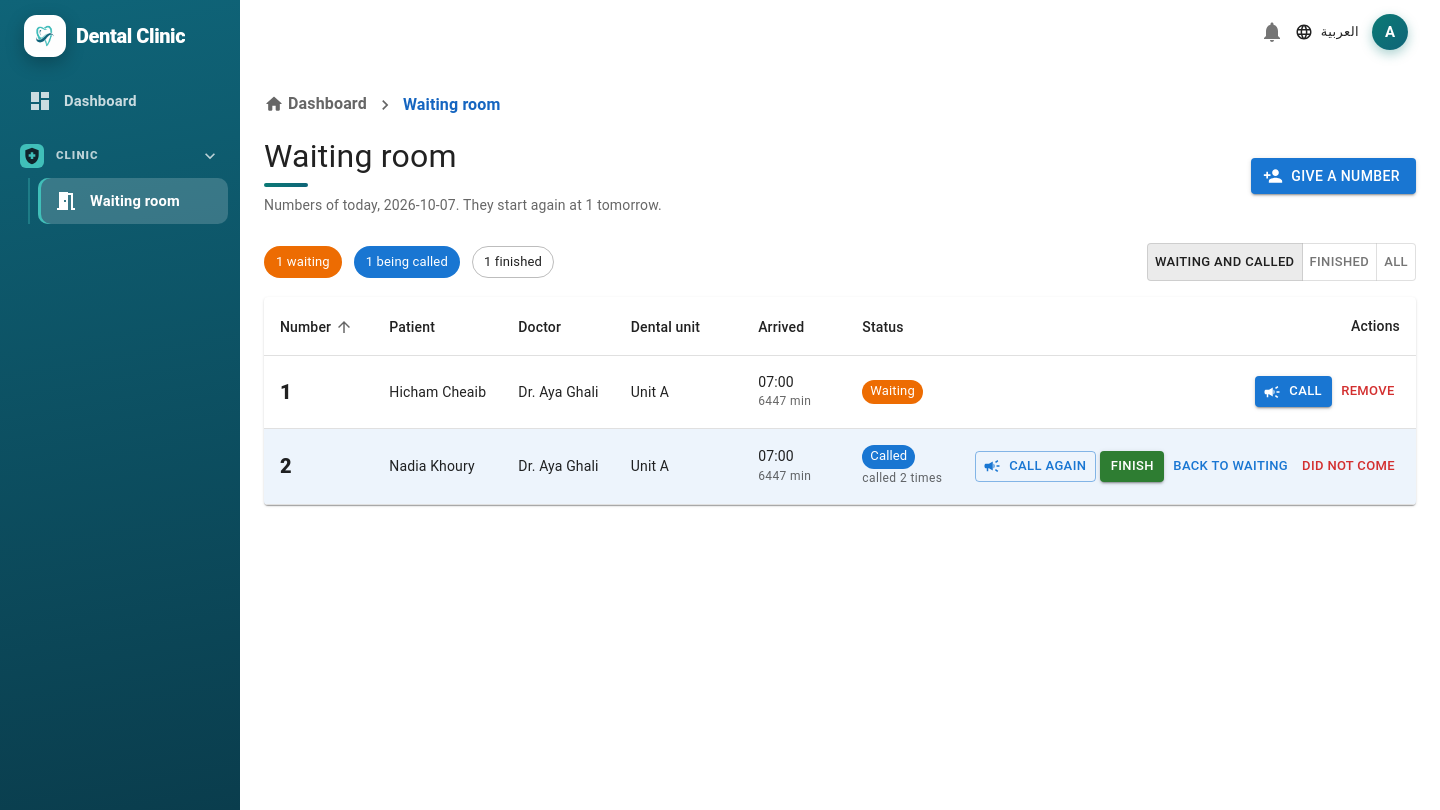
Test: the waiting room page › lists today’s numbers with the patient, doctor, dental unit and status, and counts them
Expected: the heading "Waiting room" is shown, x1=264 y1=137 x2=457 y2=175
Expected: the text "1" is shown, x1=280 y1=380 x2=292 y2=404
Click the button "Finished" at point(1339, 262), box x1=1302 y1=242 x2=1377 y2=281
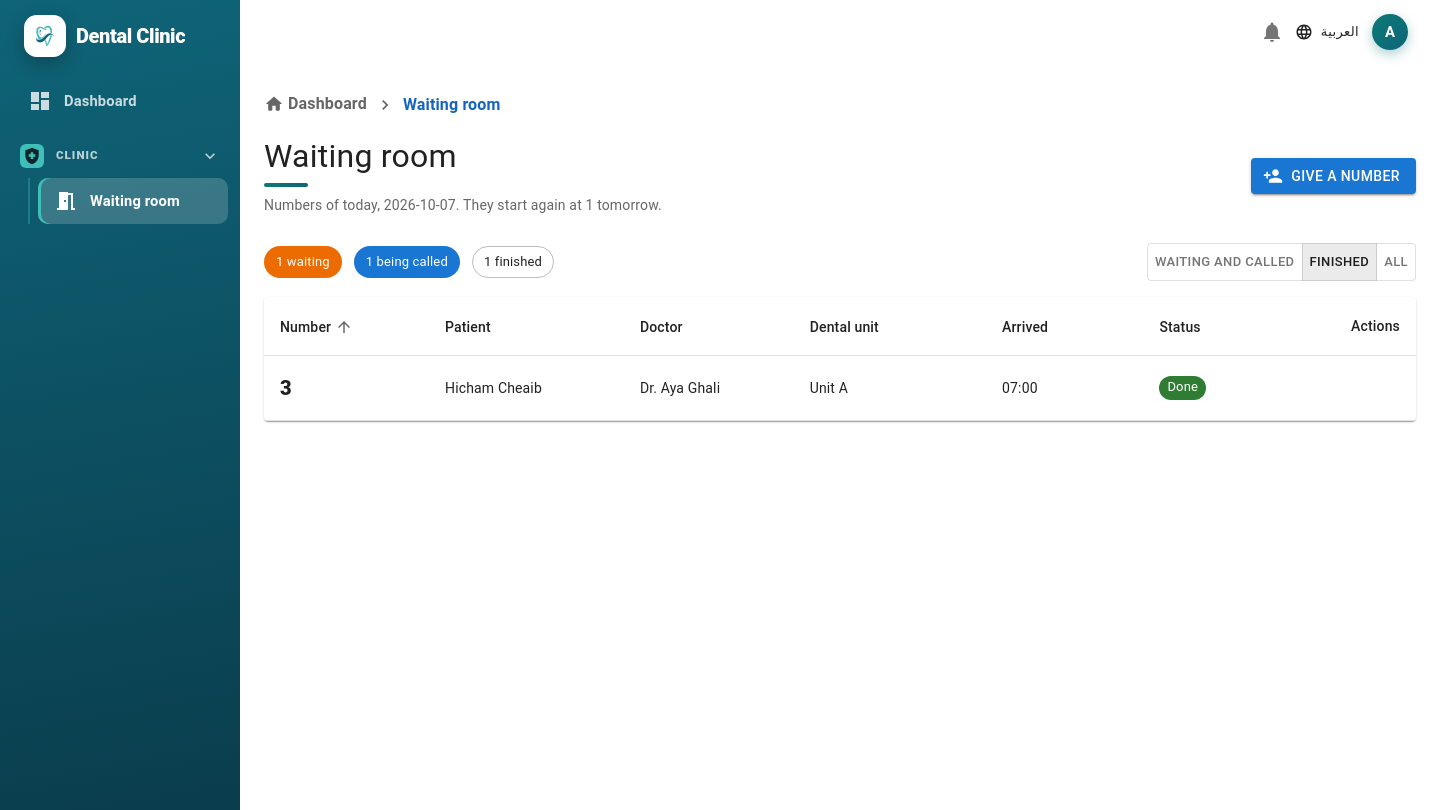
Now the number of rows is 2, box x1=264 y1=297 x2=1416 y2=355; x1=264 y1=355 x2=1416 y2=420
Click the button "All" at point(1396, 262), box x1=1376 y1=242 x2=1416 y2=281
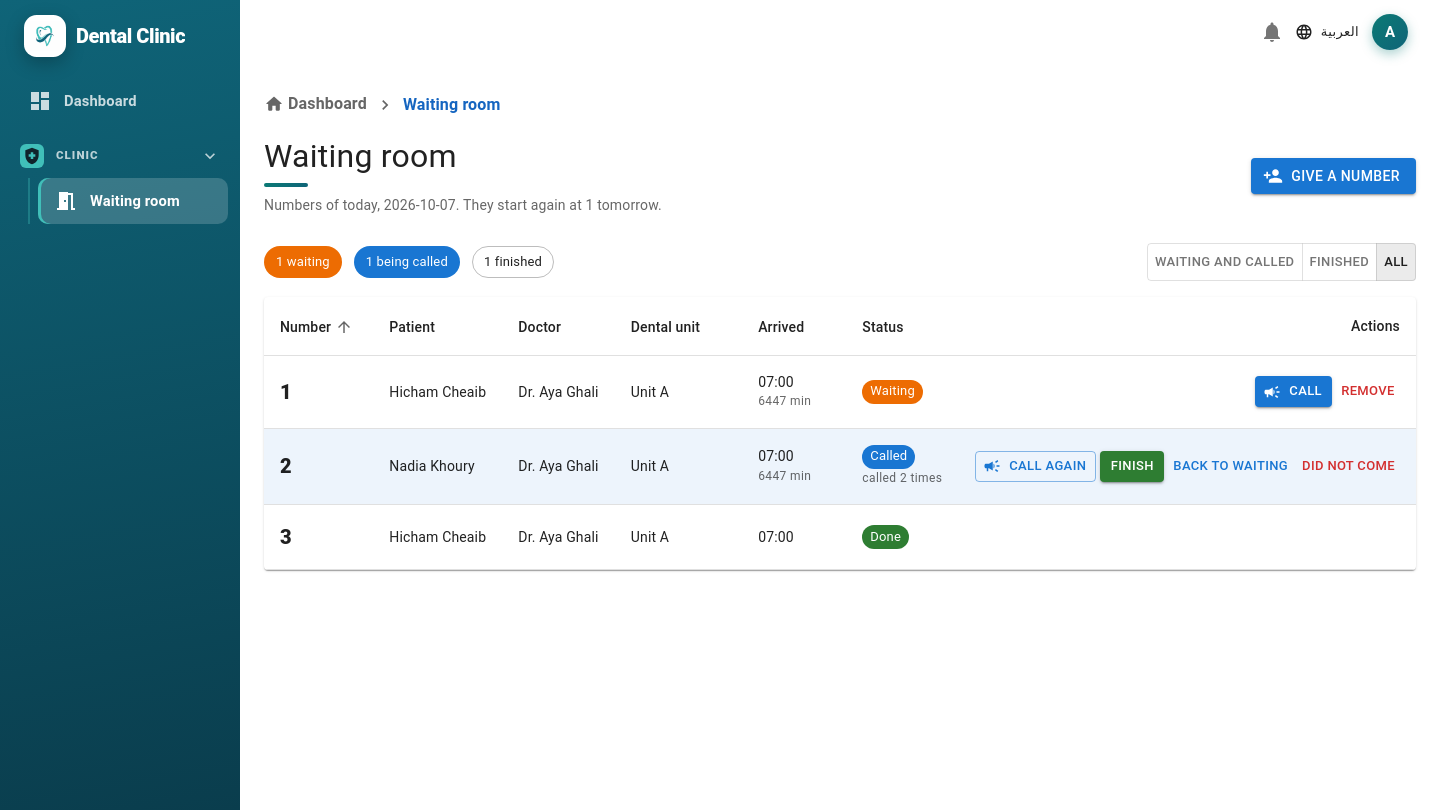
Now the number of rows is 4, box x1=264 y1=297 x2=1416 y2=355; x1=264 y1=355 x2=1416 y2=428; x1=264 y1=428 x2=1416 y2=505; x1=264 y1=505 x2=1416 y2=570
